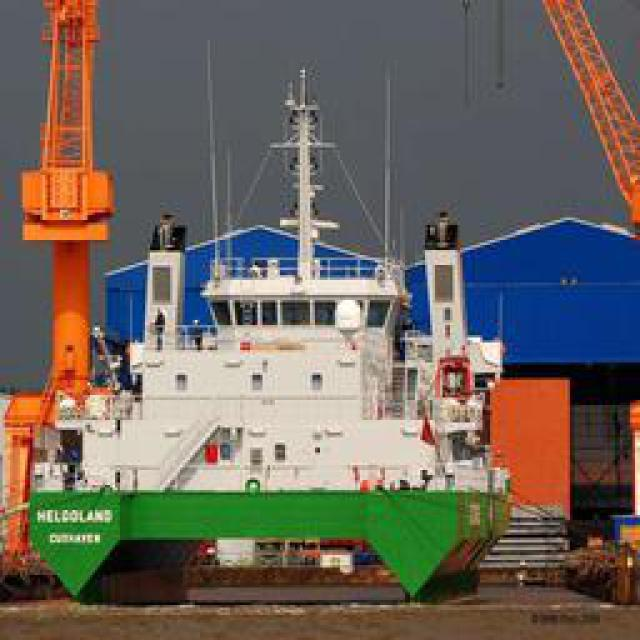Ship: (34, 56, 499, 596)
